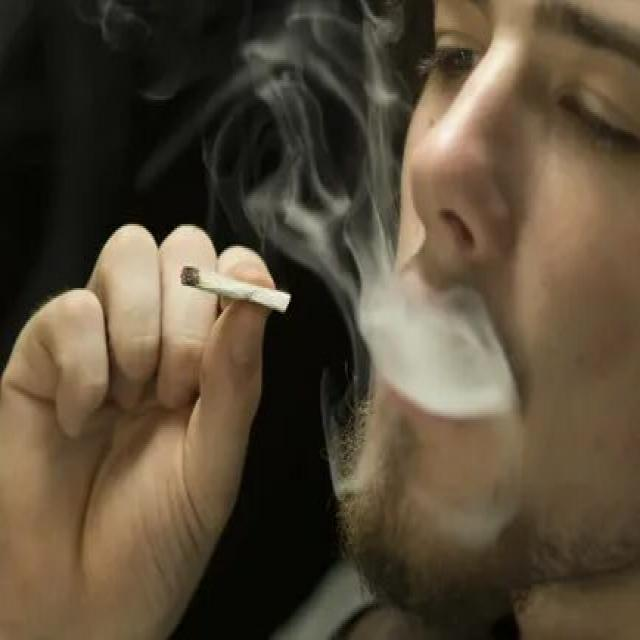cigarette: (180, 258, 293, 324)
